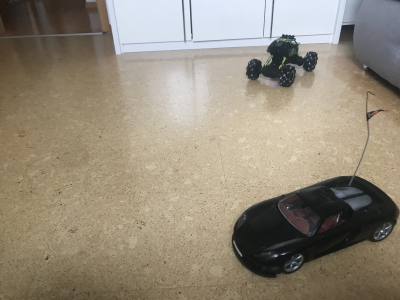remote control car: (243, 30, 320, 88)
